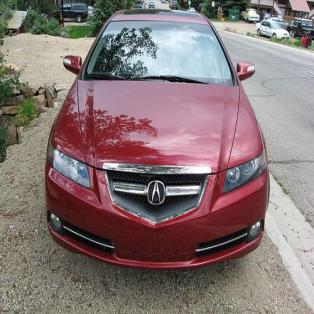Auto: (43, 6, 270, 271)
